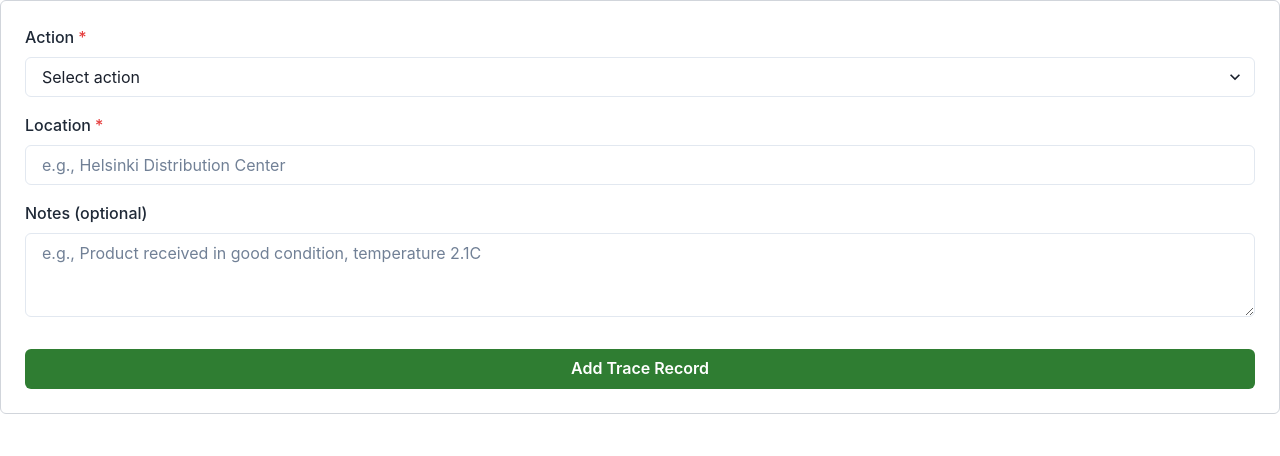
Test case: TraceRecordForm › Validation › should show error when location is empty
Note: Select an action first
Select "Received" in the dropdown at (640, 77), box [25,57,1255,97]
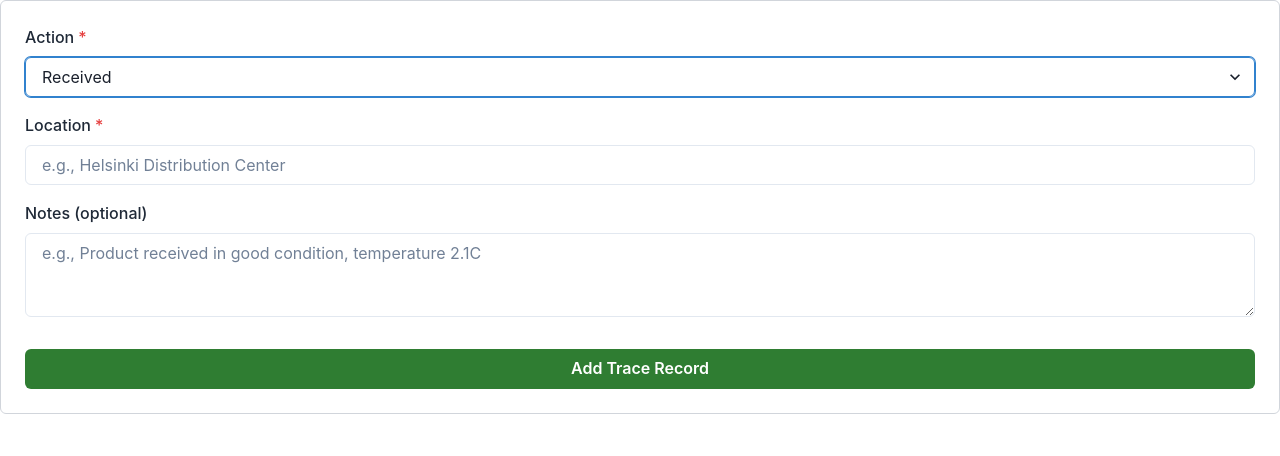
Note: Submit the form directly using fireEvent to bypass native validation
Submit the form
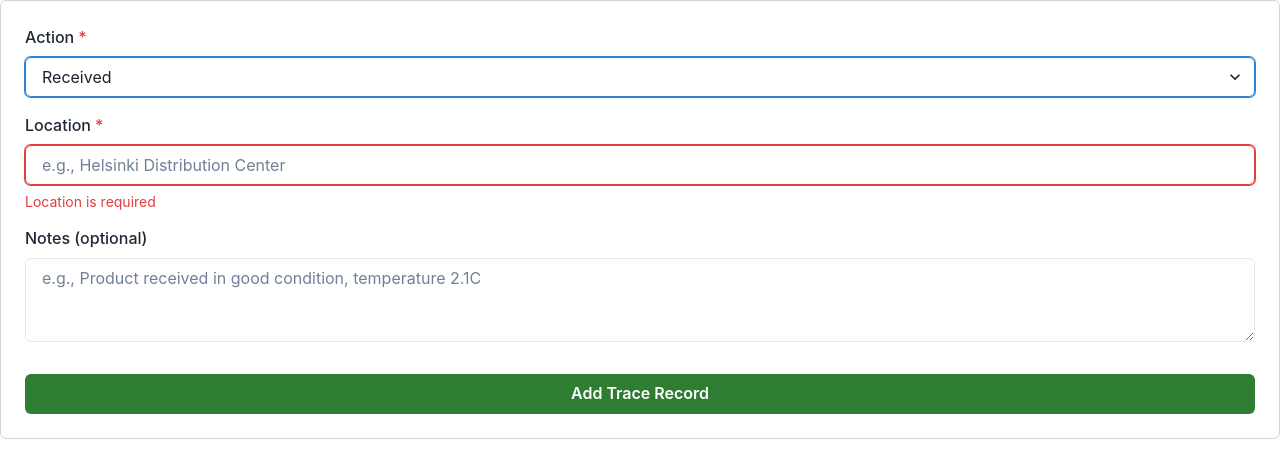
Expected: the text "Location is required" is shown, [25,193,156,210]
